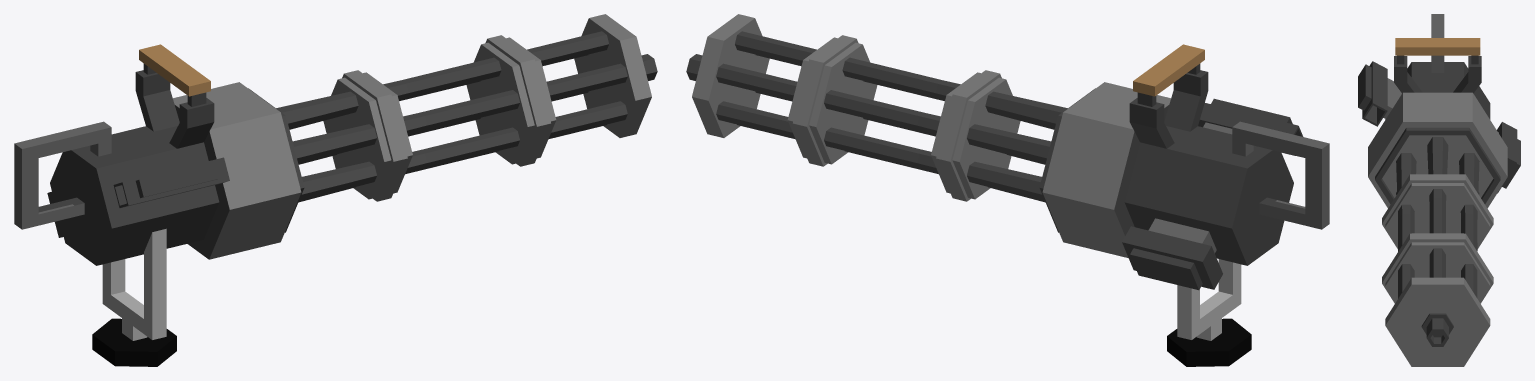
Rendered from minigun 1.fbx.
3 renders of one model, left to right at view 1: azimuth 30°, elevation 25°; view 2: azimuth 150°, elevation 25°; view 3: azimuth 270°, elevation 25°, orthographic. The views are drawn at different scales.
Visible parts, largest first — view 1: Barrel, Handle, Aimer, Base; view 2: Barrel, Handle, Aimer, Base; view 3: Barrel, Handle.
Part boxes in pixels (x1,y1,x2,y2): Barrel: (173,14,657,259); Handle: (14,44,229,265); Aimer: (102,228,166,340); Base: (92,318,176,366); Barrel: (686,14,1170,257); Handle: (1122,44,1329,290); Aimer: (1177,259,1241,340); Base: (1167,318,1251,366); Barrel: (1368,92,1507,366); Handle: (1358,14,1520,193).
Size of the model in its own units: 883 by 367 by 233.
